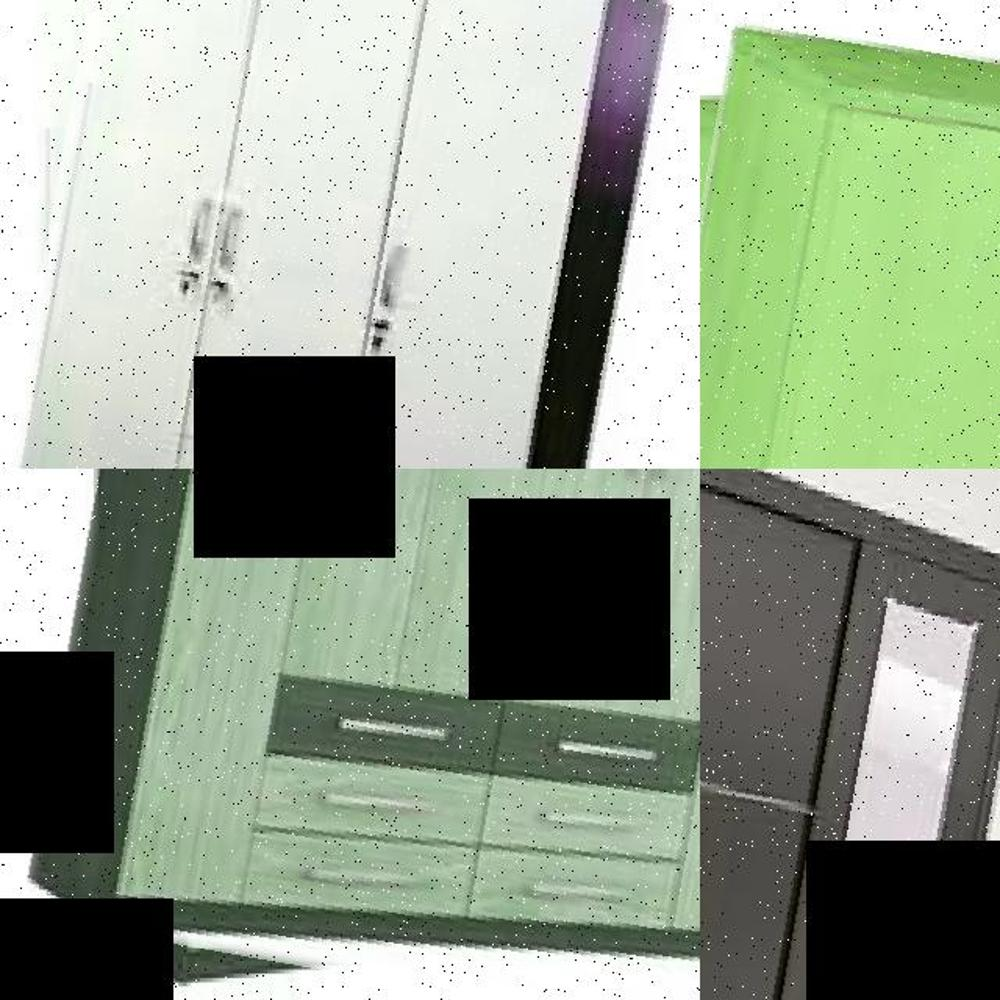cabinet: (59, 469, 700, 1000), (0, 0, 667, 469), (700, 469, 1000, 1000)
